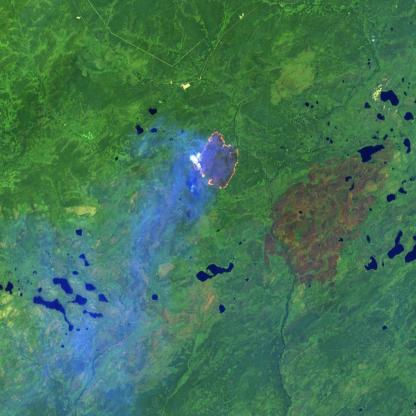fire: (188, 126, 242, 196)
